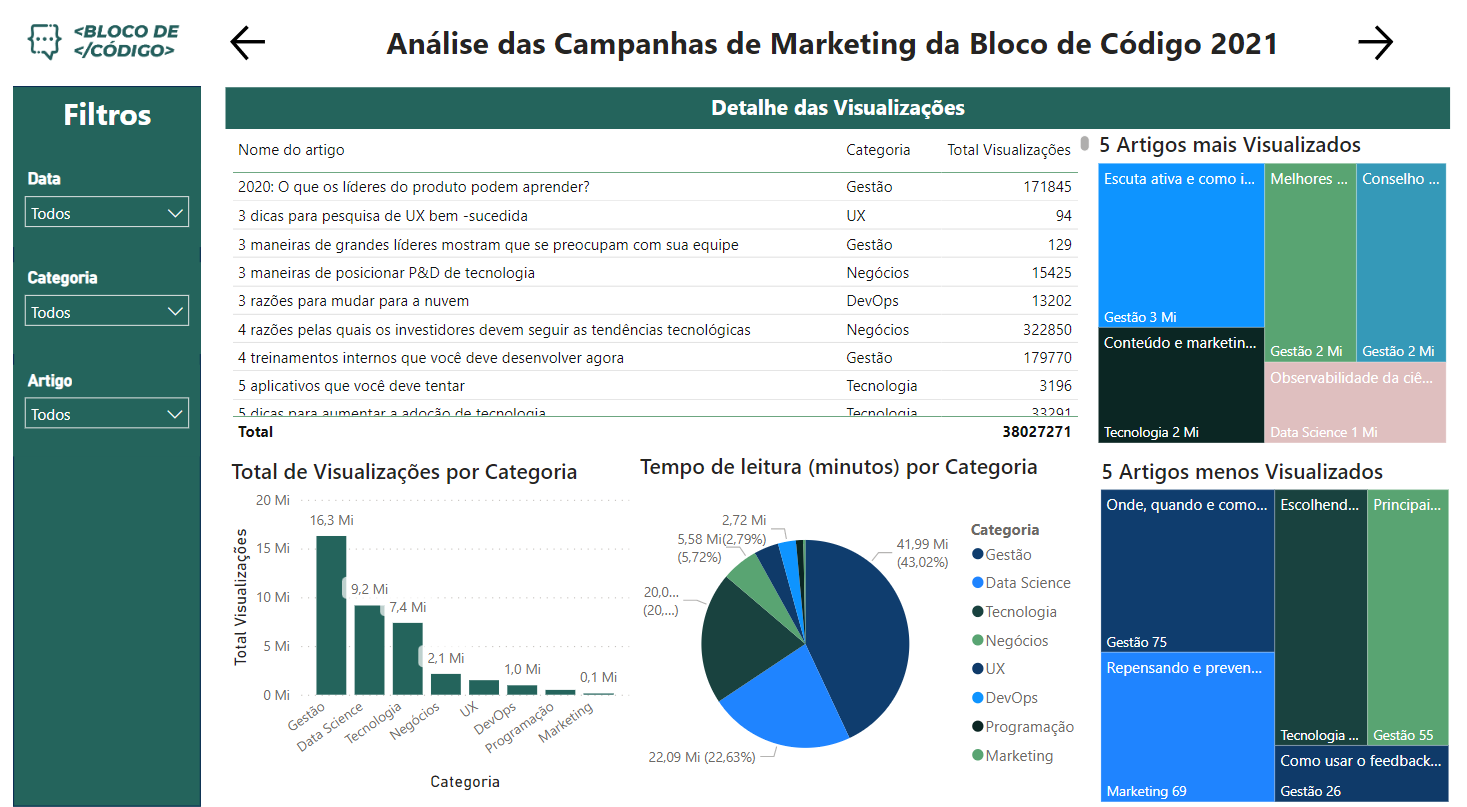

What the dashboard file says about the page in this screenshot:
{"tool":"powerbi","page":{"name":"Visualizações","canvas":[1280,720],"ordinal":1},"visuals":[{"type":"image","box":[0,0,165.6,84.9],"z":0},{"type":"shape","box":[0,84.2,165.6,635.8],"z":1},{"type":"textbox","box":[165.1,21.8,1114.9,49.9],"z":2},{"type":"slicer","fields":{"Values":["Artigos.Data"]},"box":[0,151.7,165.6,73.7],"z":3},{"type":"slicer","fields":{"Values":["Artigos.Categoria"]},"box":[0,239.3,165.6,80.7],"z":4},{"type":"textbox","box":[0,84.9,165.6,72.3],"z":5},{"type":"textbox","box":[187.1,84.9,1079.4,36.9],"z":6},{"type":"slicer","fields":{"Values":["Artigos.Nome do artigo"]},"box":[0,329,165.1,80.6],"z":7},{"type":"tableEx","title":"Comparativo de Vezes Pesquisados x Visualizações","fields":{"Values":["Artigos.Nome do artigo","Artigos.Categoria","Valores.Total Visualizações"]},"box":[187.1,121.8,766.8,281.8],"z":8},{"type":"lineStackedColumnComboChart","title":"Total de Visualizações por Categoria","fields":{"Category":["Artigos.Categoria"],"Y":["Valores.Total Visualizações"]},"box":[187.1,409.8,360.6,300.3],"z":9},{"type":"treemap","title":"5 Artigos mais Visualizados","fields":{"Group":["Artigos.Nome do artigo"],"Details":["Artigos.Categoria"],"Values":["Valores.Total Visualizações"]},"box":[951.4,121.8,316.3,280.6],"z":10},{"type":"treemap","title":"5 Artigos menos Visualizados","fields":{"Group":["Artigos.Nome do artigo"],"Details":["Artigos.Categoria"],"Values":["Valores.Total Visualizações"]},"box":[953.8,409.8,316.3,310.2],"z":11},{"type":"actionButton","box":[1180.3,25.8,99.7,40.6],"z":12},{"type":"actionButton","box":[187.1,25.8,99.7,40.6],"z":13},{"type":"pieChart","title":"Tempo de leitura (minutos) por Categoria","fields":{"Category":["Artigos.Categoria"],"Y":["Valores.Total Tempo de Leitura"]},"box":[547.7,404.9,402.5,315.1],"z":14}]}

Visuals, with their boxes in screenshot pixels (x1, y1, x2, y2), scaled from the page's 1280x720 canvas onto the 1467x807 screenshot:
image: 0, 0, 190, 95
shape: 0, 94, 190, 806
textbox: 189, 24, 1466, 80
slicer - Artigos.Data: 0, 170, 190, 253
slicer - Artigos.Categoria: 0, 268, 190, 359
textbox: 0, 95, 190, 176
textbox: 214, 95, 1452, 137
slicer - Artigos.Nome do artigo: 0, 369, 189, 459
"Comparativo de Vezes Pesquisados x Visualizações" tableEx: 214, 137, 1093, 452
"Total de Visualizações por Categoria" lineStackedColumnComboChart: 214, 459, 628, 796
"5 Artigos mais Visualizados" treemap: 1090, 137, 1453, 451
"5 Artigos menos Visualizados" treemap: 1093, 459, 1456, 806
actionButton: 1353, 29, 1466, 74
actionButton: 214, 29, 329, 74
"Tempo de leitura (minutos) por Categoria" pieChart: 628, 454, 1089, 806
